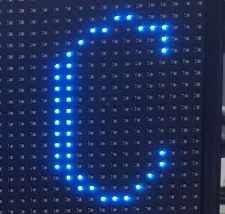c: (33, 11, 201, 208)
